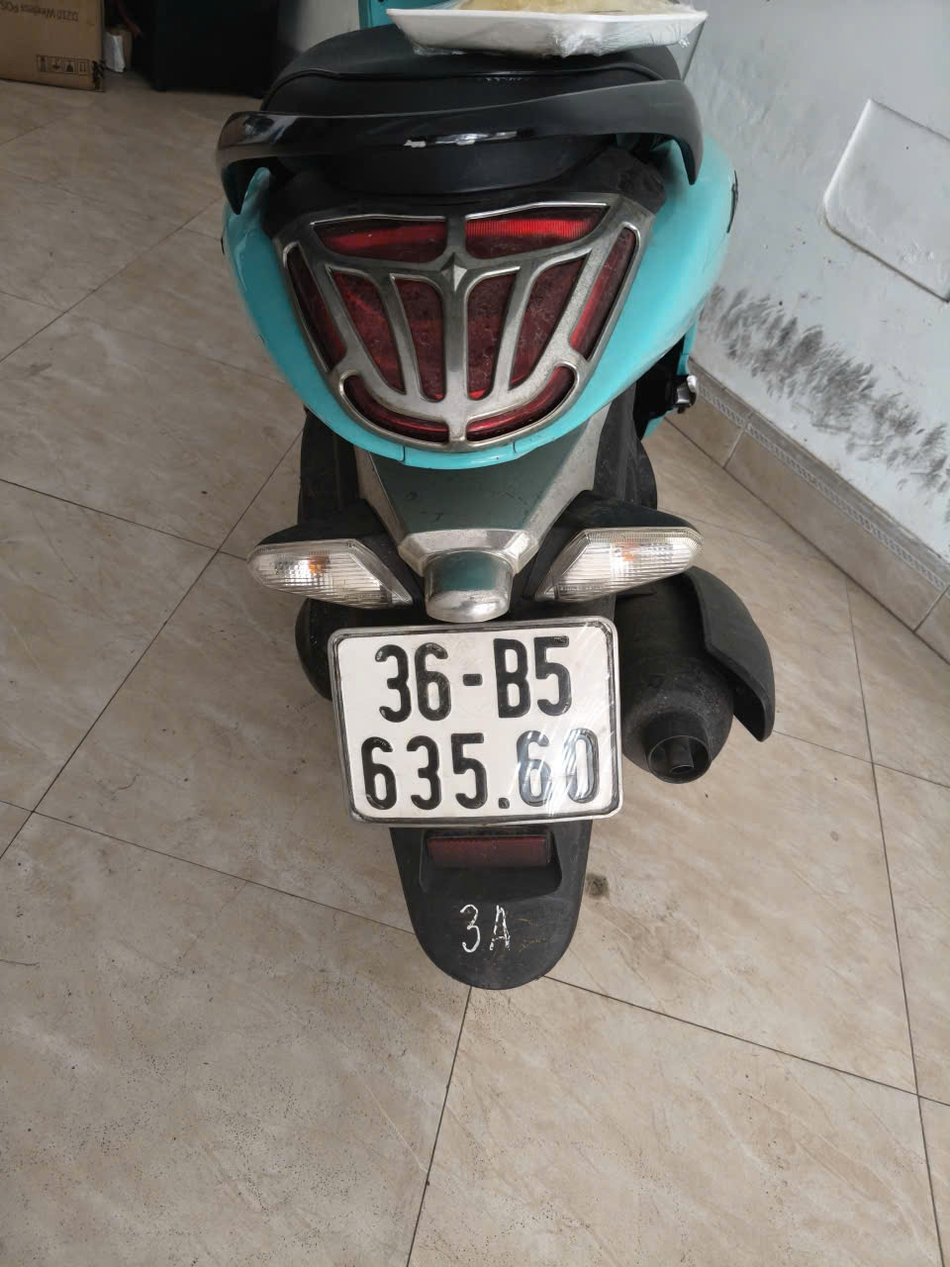plate: (542, 18, 705, 55)
